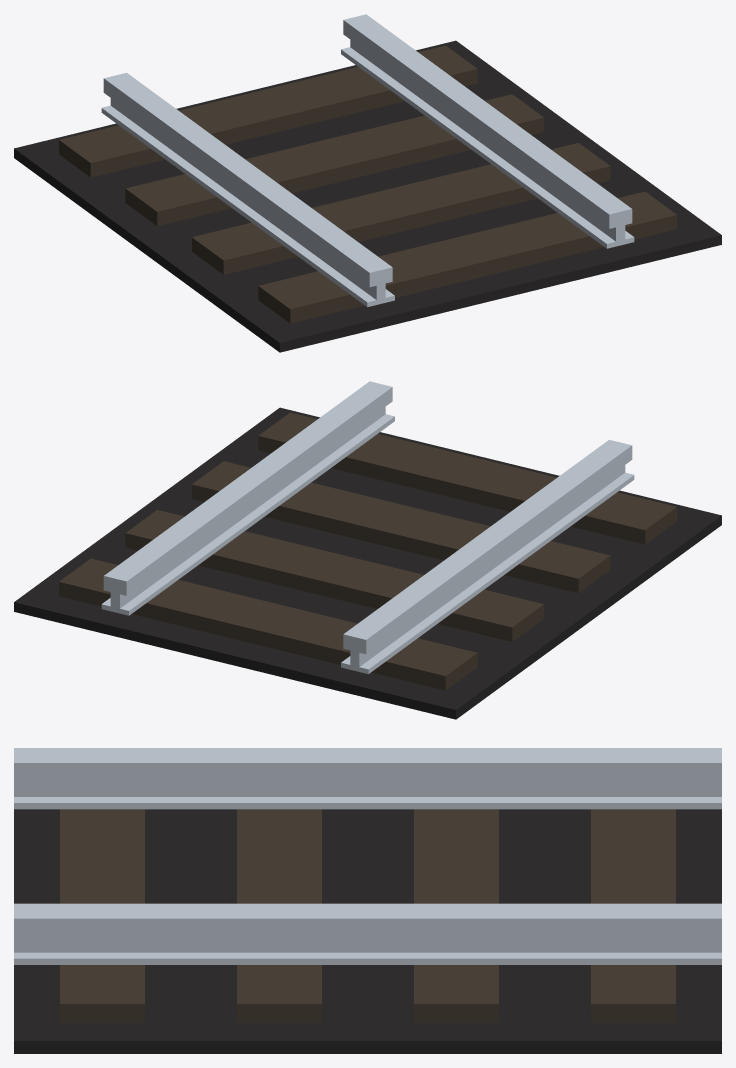
File: metro_rails_ns.obj
3 views of the same model, one above another, from view 1: azimuth 30°, elevation 25°; view 2: azimuth 150°, elevation 25°; view 3: azimuth 270°, elevation 25° (orthographic). The views are drawn at different scales.
Visible parts, largest first — view 1: metro_rails_ns; view 2: metro_rails_ns; view 3: metro_rails_ns.
Boxes of the visible parts, x1,y1,x2,y2 form: metro_rails_ns: (14,14,721,352); metro_rails_ns: (14,381,721,719); metro_rails_ns: (14,748,721,1053).
Size of the model in its own units: 0.96 by 0.12 by 1.
